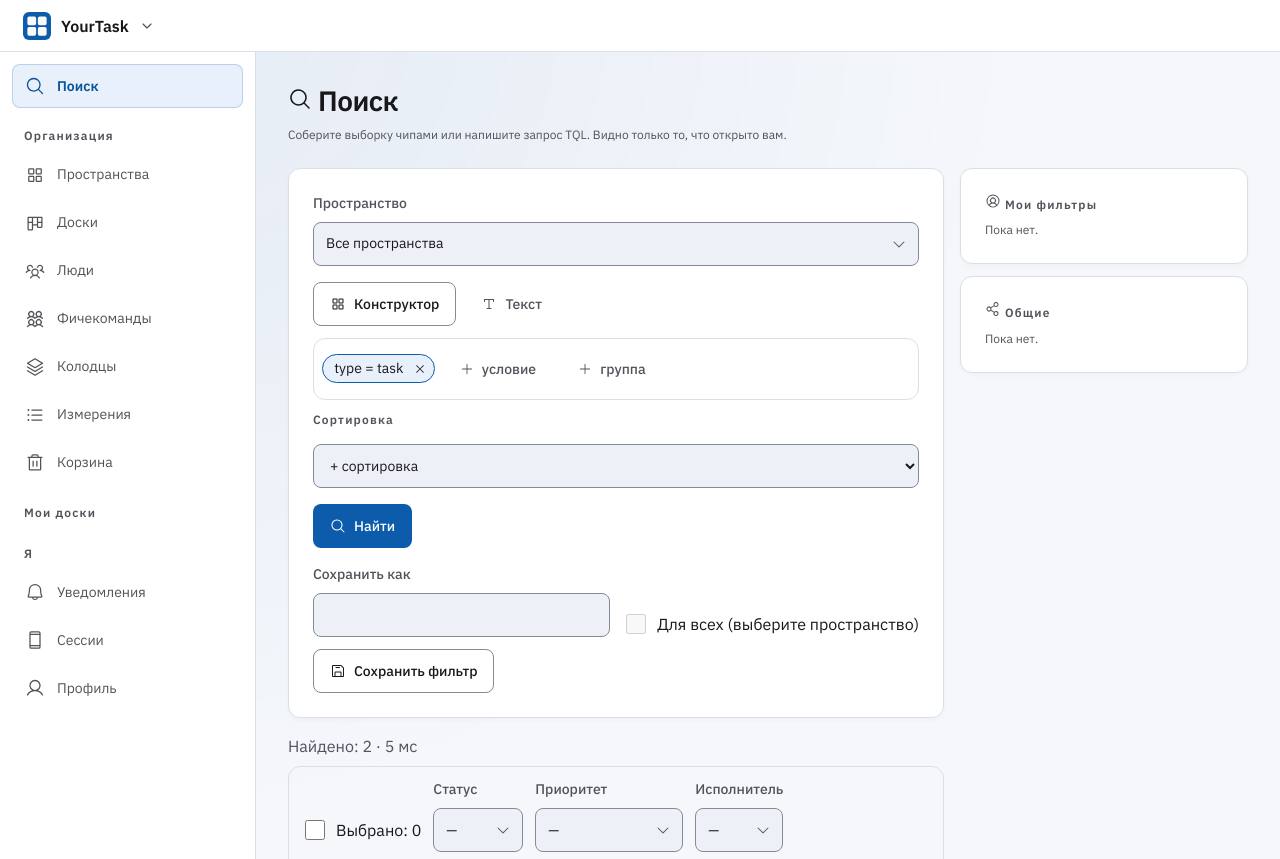
it: settings and bulk edit › search results: select all → status for everyone in one bulk request
Click the checkbox labelled "Выбрано: 0" at (315, 830), box [305, 820, 325, 840]
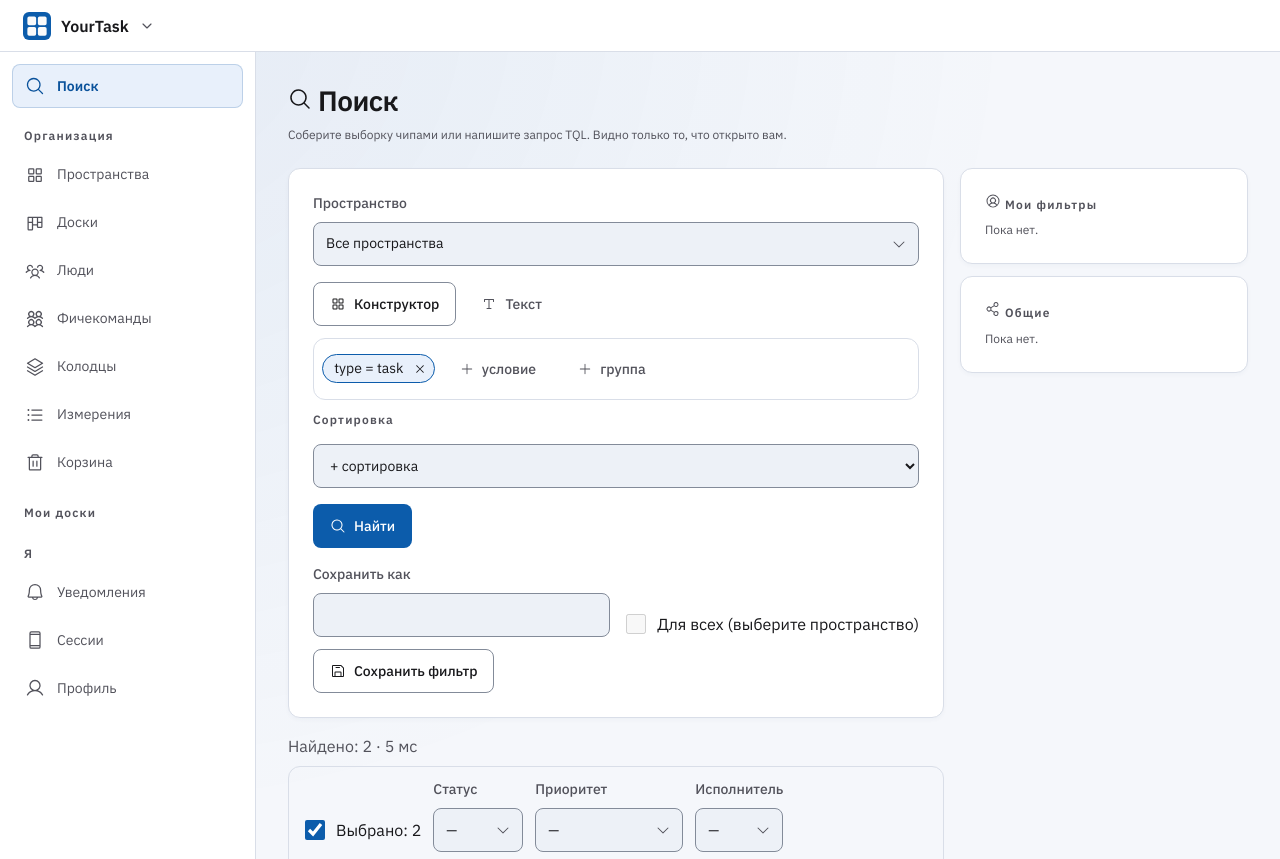
Select "To Do" in the dropdown labelled "Статус" at (478, 830), box [433, 808, 523, 852]
(page scrolled)
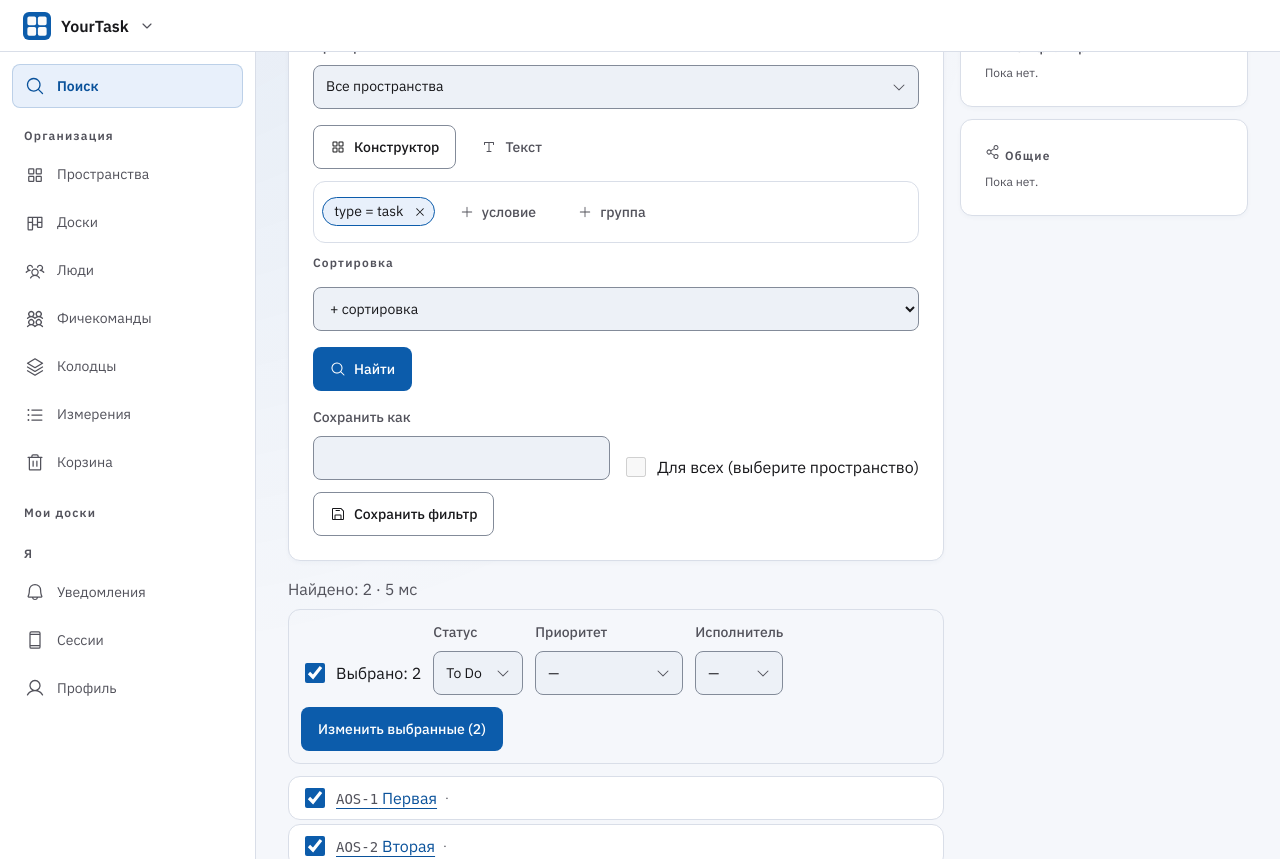
Click the button "Изменить выбранные (2)" at (402, 729), box [301, 707, 503, 751]
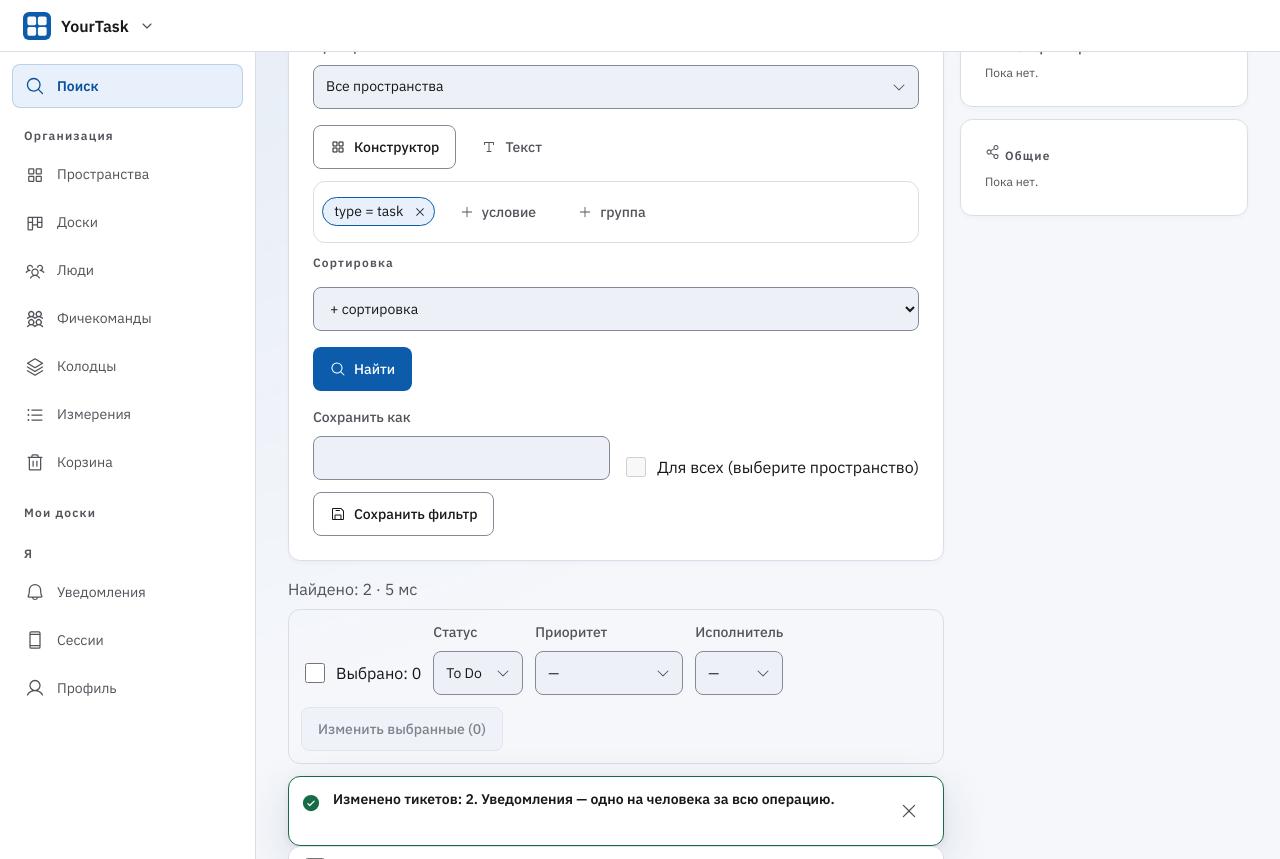
Expected: the text "Изменено тикетов: 2" is shown, [333, 790, 835, 808]
